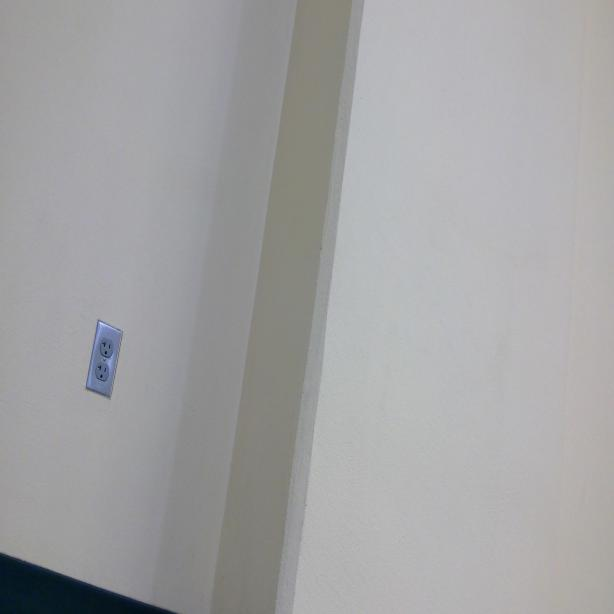typeb: (100, 338, 114, 359), (96, 363, 108, 383)
